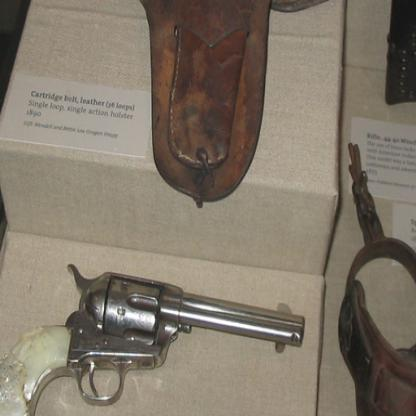gun: (0, 263, 307, 415)
